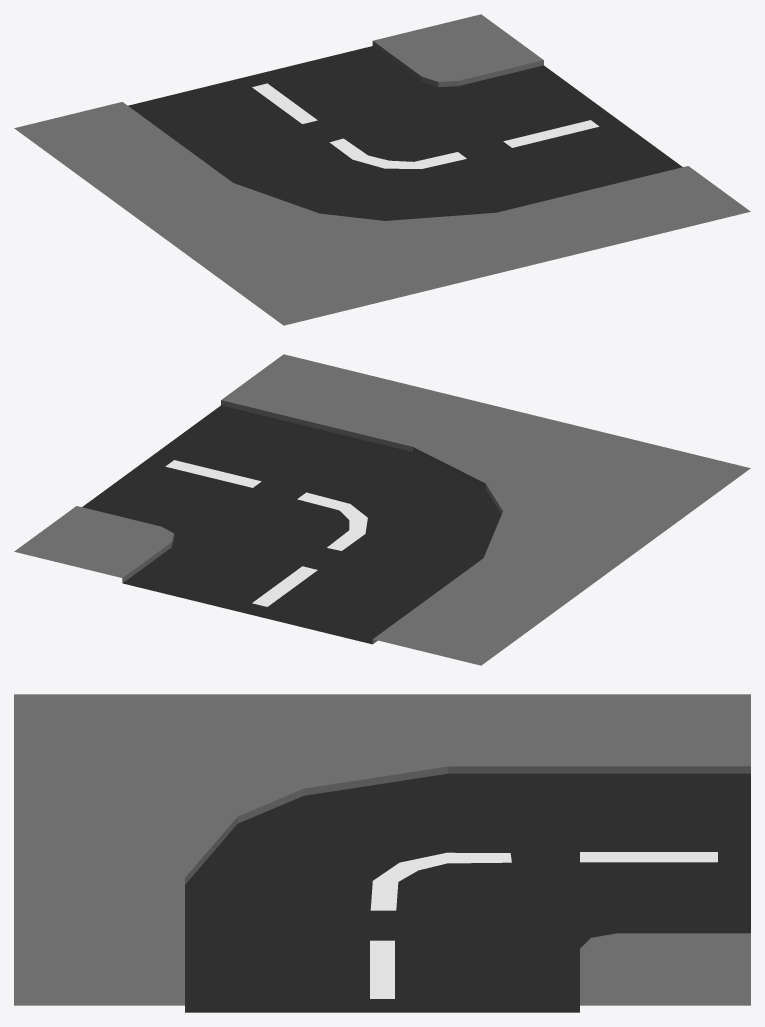
The model's file is bend.obj.
3 renders of one model, top to bottom at view 1: azimuth 30°, elevation 25°; view 2: azimuth 150°, elevation 25°; view 3: azimuth 270°, elevation 25°, orthographic. The views are drawn at different scales.
Visible parts, largest first — view 1: skrzyzowanie; view 2: skrzyzowanie; view 3: skrzyzowanie.
Boxes of the visible parts, bbox=[...] form: skrzyzowanie: bbox=[14, 14, 750, 325]; skrzyzowanie: bbox=[14, 354, 750, 665]; skrzyzowanie: bbox=[14, 694, 750, 1012].
Size of the model in its own units: 14 by 0.15 by 14.
